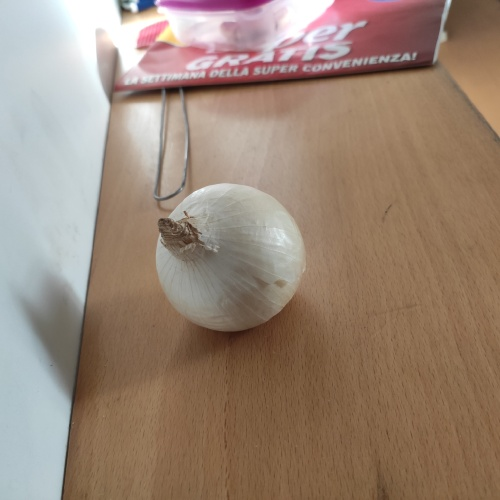cipolla: (145, 177, 315, 338)
